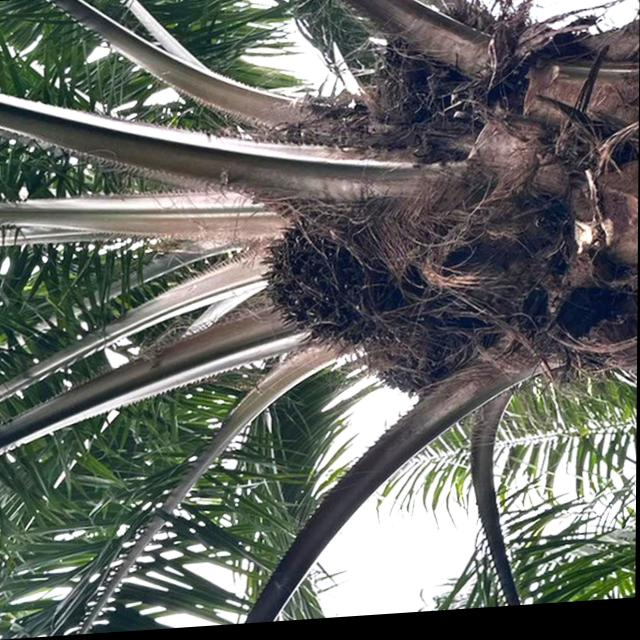almost: (253, 204, 422, 365), (368, 300, 481, 406)
